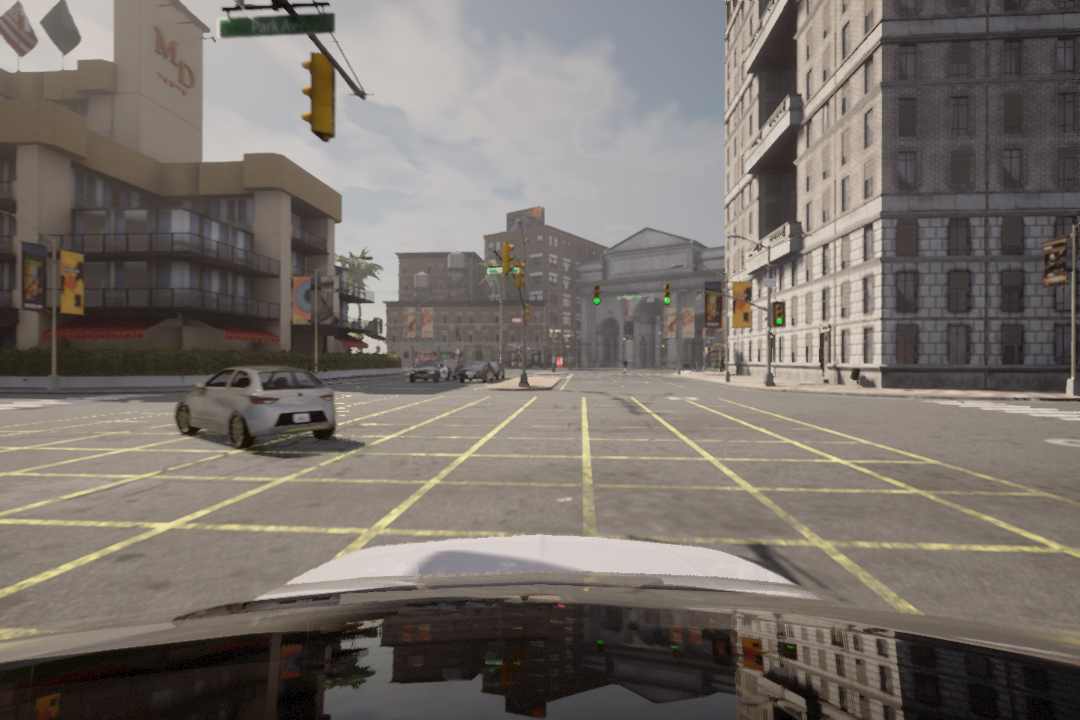TrafficLight: (772, 297, 786, 328), (663, 284, 674, 309), (591, 281, 601, 307)
